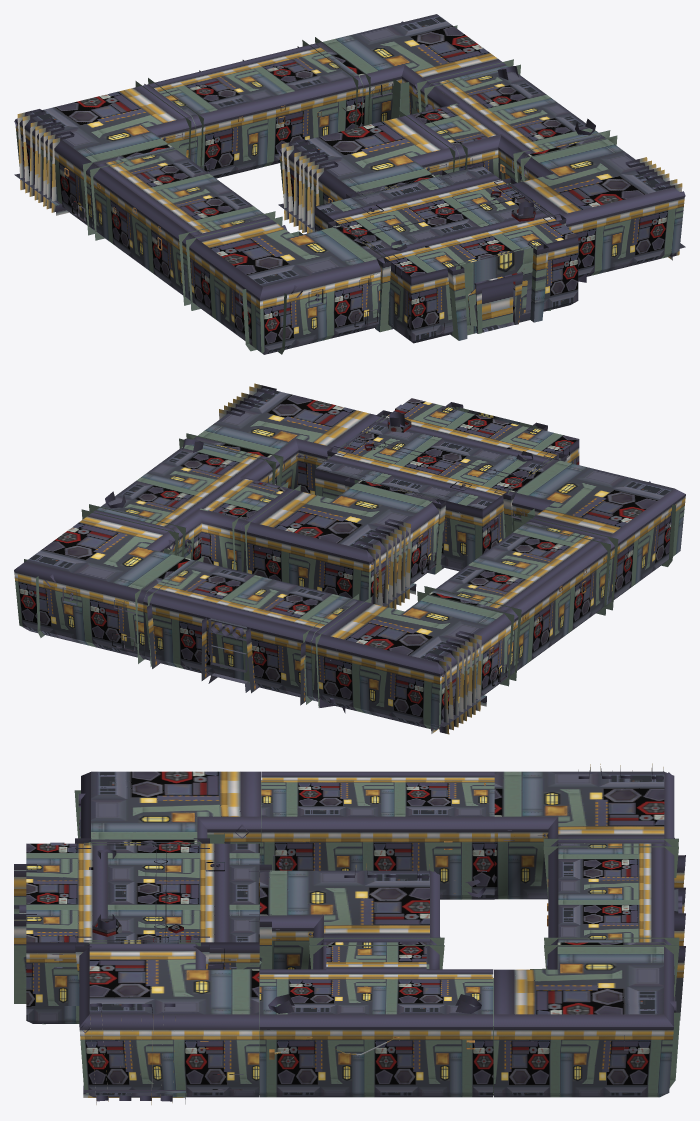
File: Combined_Mesh_root_scene__20_a4a1e6c2__zombies2_diffuse_07_65562b6b_c1f257.obj
3 views of the same model, one above another, from view 1: azimuth 30°, elevation 25°; view 2: azimuth 150°, elevation 25°; view 3: azimuth 270°, elevation 25° (orthographic). The views are drawn at different scales.
Size of the model in its own units: 51.83 by 9.64 by 57.56.
Materials: 132 (132 with a texture image).
